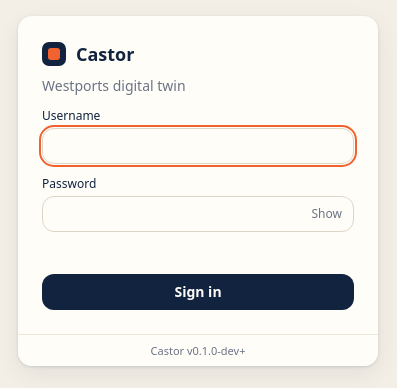
login page › shows the same message, clears and focuses the password on a 401
Step 1. Type "ada" into the field labelled "Username" → coordinates (198, 146), box [42, 128, 354, 164]
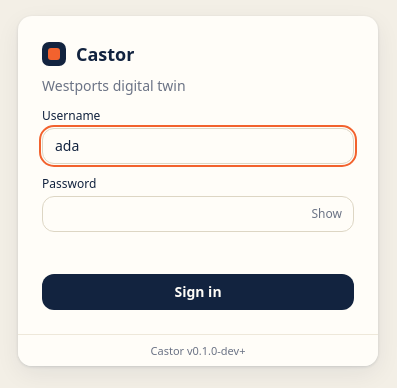
Step 2. Type "wrong" into the password field labelled "Password" → coordinates (198, 214), box [42, 196, 354, 232]
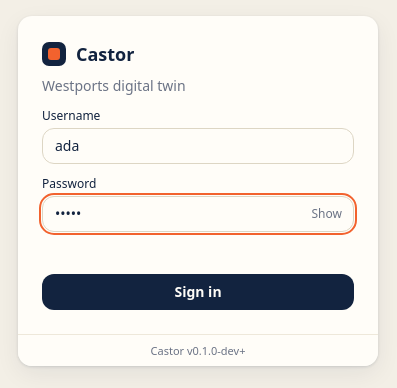
Step 3. Click the button "Sign in" → coordinates (198, 292), box [42, 274, 354, 310]
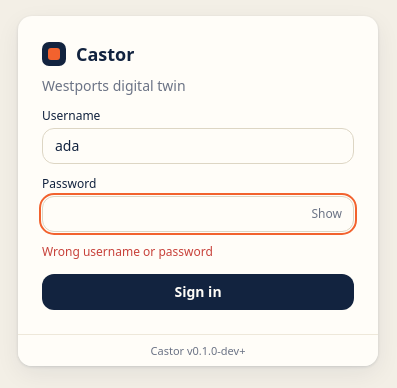
Result: the message reads "Wrong username or password" at [42, 242, 213, 260]
Result: the password field labelled "Password" is empty at [42, 196, 354, 232]
